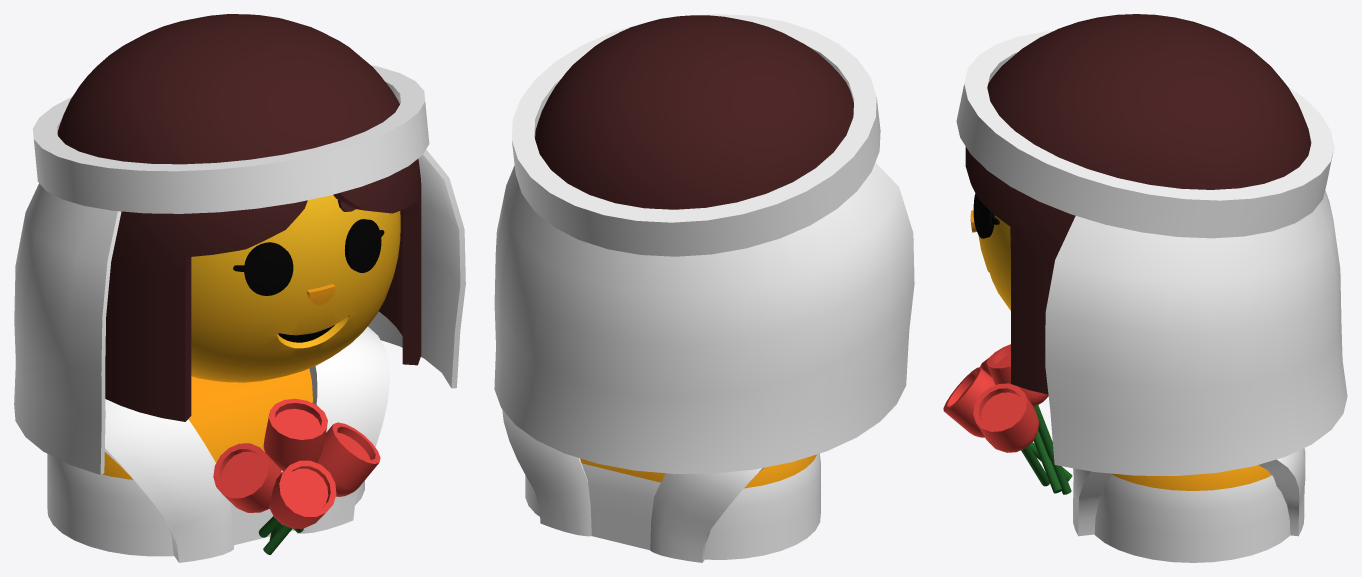
Rendered from woman_with_veil.glb.
The picture shows the model from 3 angles, left to right: view 1: azimuth 30°, elevation 25°; view 2: azimuth 150°, elevation 25°; view 3: azimuth 270°, elevation 25°; orthographic projection. The views are drawn at different scales.
Parts seen in each view (by area): view 1: Roundcube.178, Sphere.152, Sphere.153, Roundcube.177, Sphere.151, Cylinder.156, Circle.886; view 2: Sphere.153, Roundcube.178, Sphere.152, Sphere.151; view 3: Sphere.153, Roundcube.178, Sphere.152, Sphere.151, Cylinder.156, Roundcube.177, Circle.886.
Boxes of the visible parts, left/top/right/bottom form: Roundcube.178: left=57, top=14, right=421, bottom=421; Sphere.152: left=32, top=65, right=429, bottom=562; Sphere.153: left=14, top=149, right=465, bottom=474; Roundcube.177: left=191, top=195, right=400, bottom=382; Sphere.151: left=47, top=368, right=364, bottom=556; Cylinder.156: left=213, top=398, right=380, bottom=554; Circle.886: left=244, top=219, right=381, bottom=295; Sphere.153: left=494, top=162, right=914, bottom=473; Roundcube.178: left=535, top=15, right=853, bottom=209; Sphere.152: left=502, top=14, right=880, bottom=562; Sphere.151: left=525, top=453, right=820, bottom=559; Sphere.153: left=1045, top=190, right=1347, bottom=475; Roundcube.178: left=965, top=14, right=1310, bottom=394; Sphere.152: left=956, top=31, right=1334, bottom=536; Sphere.151: left=1094, top=465, right=1290, bottom=562; Cylinder.156: left=943, top=344, right=1072, bottom=494; Roundcube.177: left=978, top=215, right=1010, bottom=310; Circle.886: left=973, top=194, right=994, bottom=238.
Size of the model in its own units: 2.05 by 2.41 by 1.91.
Materials: 2 (2 with a texture image).
